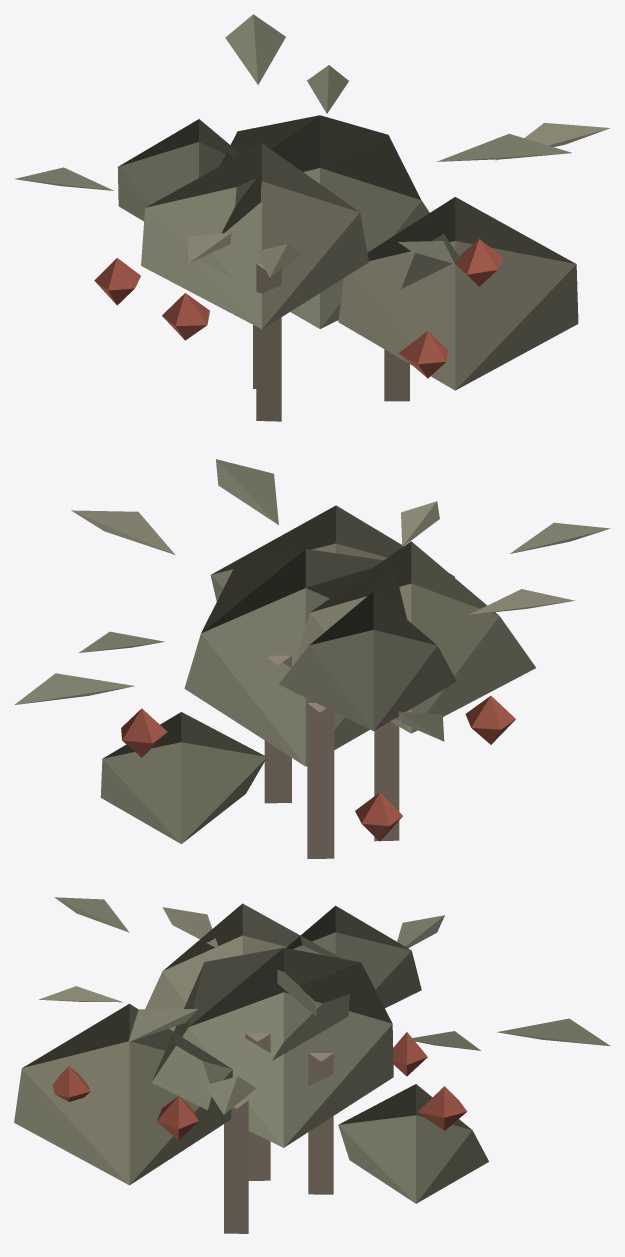
File: guan.zhizi@fruiting__winter.glb
3 views of the same model, one above another, from view 1: azimuth 30°, elevation 25°; view 2: azimuth 150°, elevation 25°; view 3: azimuth 270°, elevation 25° (orthographic). The views are drawn at different scales.
Parts seen in each view (by area): view 1: guan.zhizi@fruiting__winter; view 2: guan.zhizi@fruiting__winter; view 3: guan.zhizi@fruiting__winter.
Boxes of the visible parts, x1,y1,x2,y2 form: guan.zhizi@fruiting__winter: (15,14,610,421); guan.zhizi@fruiting__winter: (14,459,610,858); guan.zhizi@fruiting__winter: (14,897,610,1233).
Bounding box in the file's own units: 2.51 × 1.46 × 2.89.
